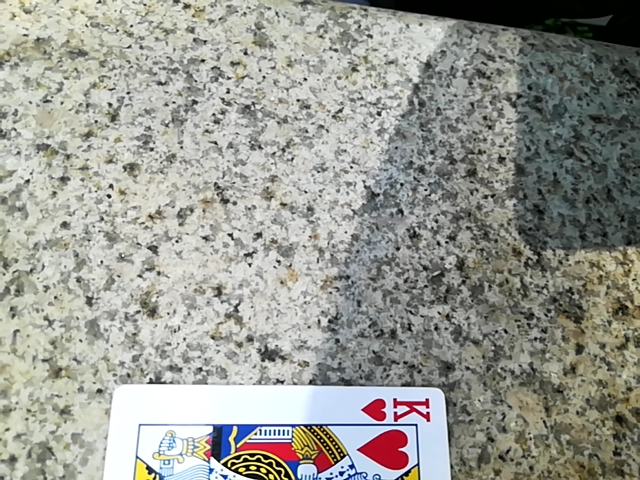hx k: (85, 377, 455, 480)
